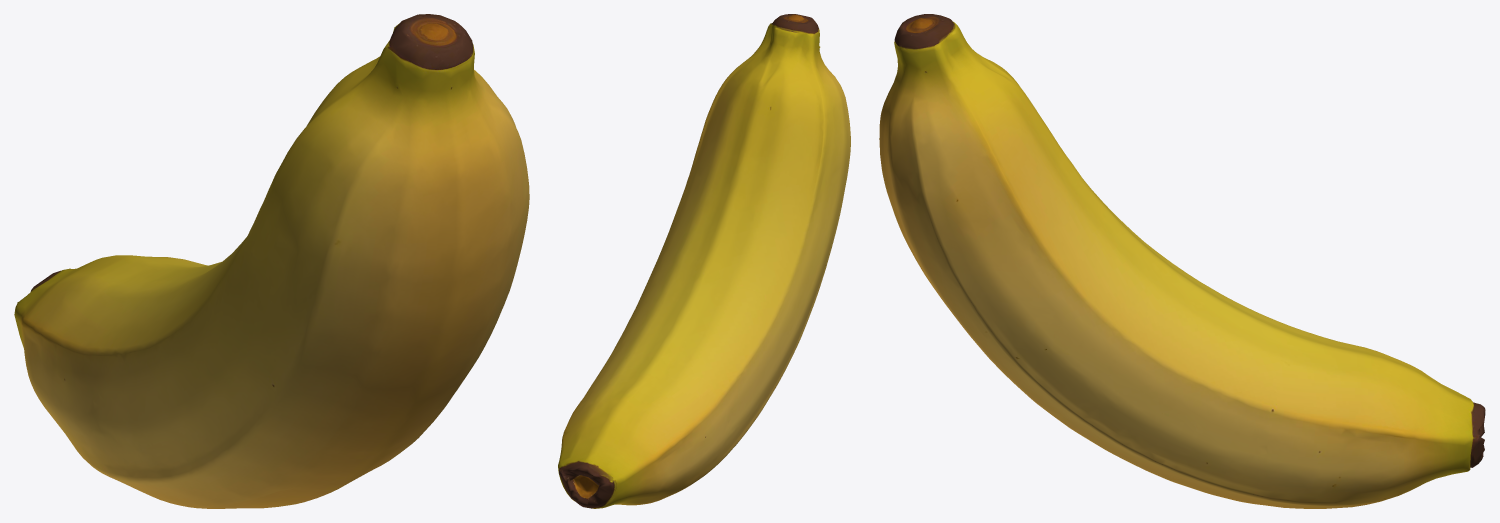
File: photoreal-banana-414df7d2.glb
3 views of the same model, side by side, from view 1: azimuth 30°, elevation 25°; view 2: azimuth 150°, elevation 25°; view 3: azimuth 270°, elevation 25° (orthographic). The views are drawn at different scales.
Visible parts, largest first — view 1: tripo_node_e2ff8ccc-2394-4be0-b1b9-4404e49a40ff; view 2: tripo_node_e2ff8ccc-2394-4be0-b1b9-4404e49a40ff; view 3: tripo_node_e2ff8ccc-2394-4be0-b1b9-4404e49a40ff.
Part boxes in pixels (<box>): tripo_node_e2ff8ccc-2394-4be0-b1b9-4404e49a40ff: <box>14,14,529,508</box>; tripo_node_e2ff8ccc-2394-4be0-b1b9-4404e49a40ff: <box>558,14,850,508</box>; tripo_node_e2ff8ccc-2394-4be0-b1b9-4404e49a40ff: <box>879,14,1485,508</box>.
Size of the model in its own units: 0.3408 by 0.872 by 0.9998.
Materials: 1 (1 with a texture image).
